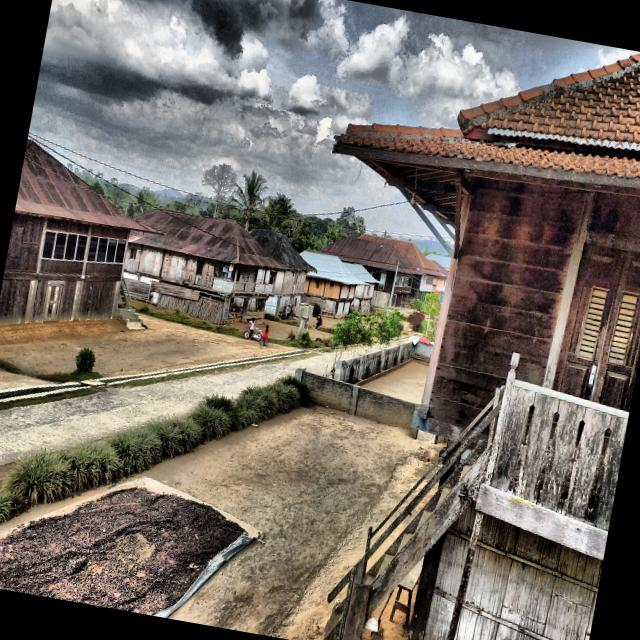column: (221, 297, 230, 321), (240, 297, 249, 321), (274, 295, 281, 316), (259, 298, 267, 311)
door: (551, 240, 640, 413), (42, 283, 62, 321)
ornamen: (490, 386, 627, 530)
roof: (331, 51, 640, 190), (14, 139, 167, 233), (128, 208, 290, 270), (306, 236, 426, 274), (357, 233, 447, 277), (247, 228, 318, 271), (299, 251, 371, 284), (342, 262, 382, 283)
stair: (321, 351, 519, 640), (116, 274, 142, 327)
wall: (427, 176, 640, 428), (454, 513, 602, 640), (423, 500, 477, 640), (38, 217, 89, 274), (161, 250, 236, 288), (4, 212, 44, 273), (84, 224, 128, 275), (31, 280, 81, 322), (77, 281, 120, 320), (0, 278, 35, 325), (124, 243, 163, 275), (304, 276, 340, 299), (274, 269, 307, 293), (339, 284, 355, 298)
window: (41, 231, 55, 259), (53, 233, 67, 259), (64, 233, 77, 260), (74, 235, 87, 260), (95, 237, 108, 261), (86, 236, 98, 261), (114, 239, 126, 263), (105, 238, 117, 262), (196, 258, 203, 274), (129, 247, 137, 259)
